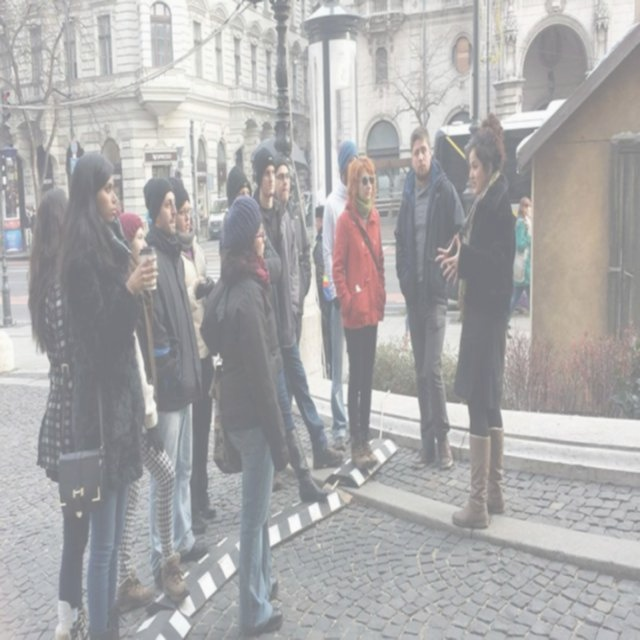pessoa: (56, 148, 161, 639), (196, 190, 292, 638), (219, 164, 330, 504), (432, 106, 518, 534), (134, 174, 210, 594), (113, 205, 190, 609), (251, 144, 345, 470), (27, 185, 92, 639), (391, 122, 467, 473), (166, 175, 218, 536), (330, 150, 388, 473), (322, 136, 362, 453), (272, 150, 313, 418), (310, 202, 334, 380), (505, 195, 532, 332), (23, 205, 37, 248), (146, 208, 153, 232)
